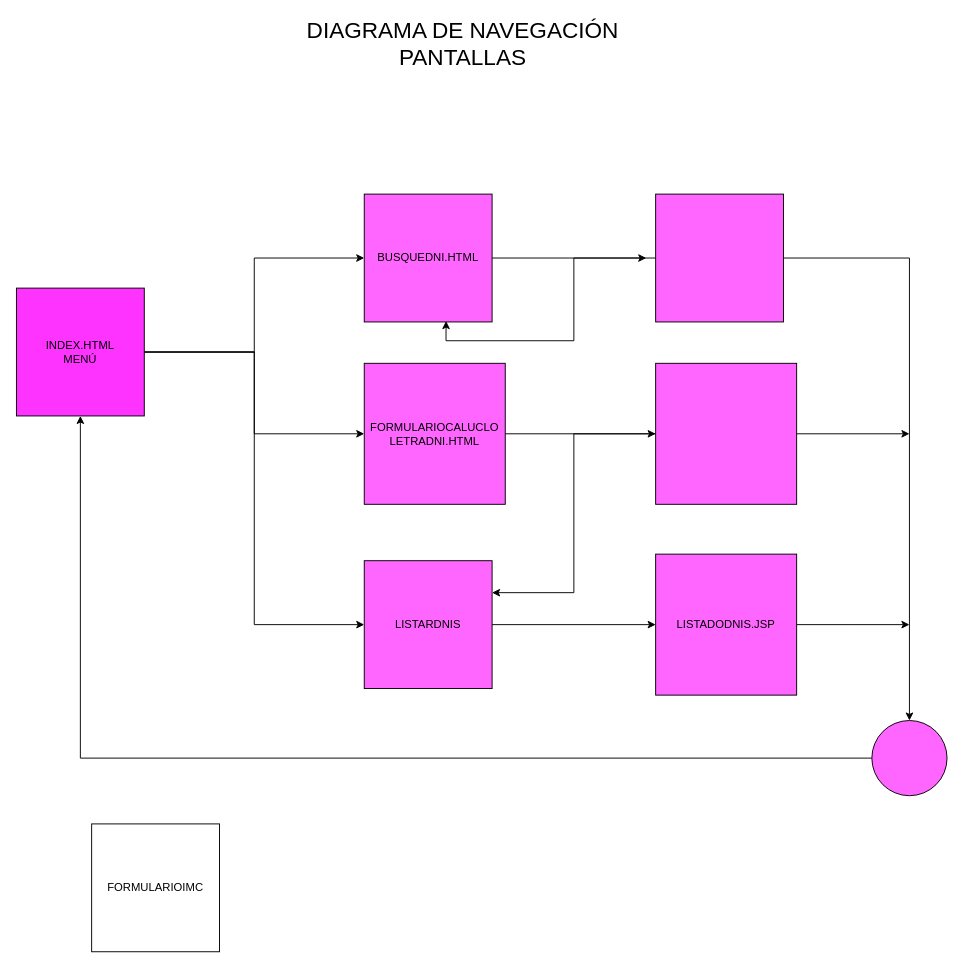
Image size: 964x968. Some labels were removed from this diagram. Here are the shapes that lost their labels. From the top down, the box of each, then its label:
(655, 193, 783, 322): SALIDABUSQUEDA.JSP
(655, 362, 797, 504): SALIDADNI.JSP
(871, 720, 947, 796): volver al menú
